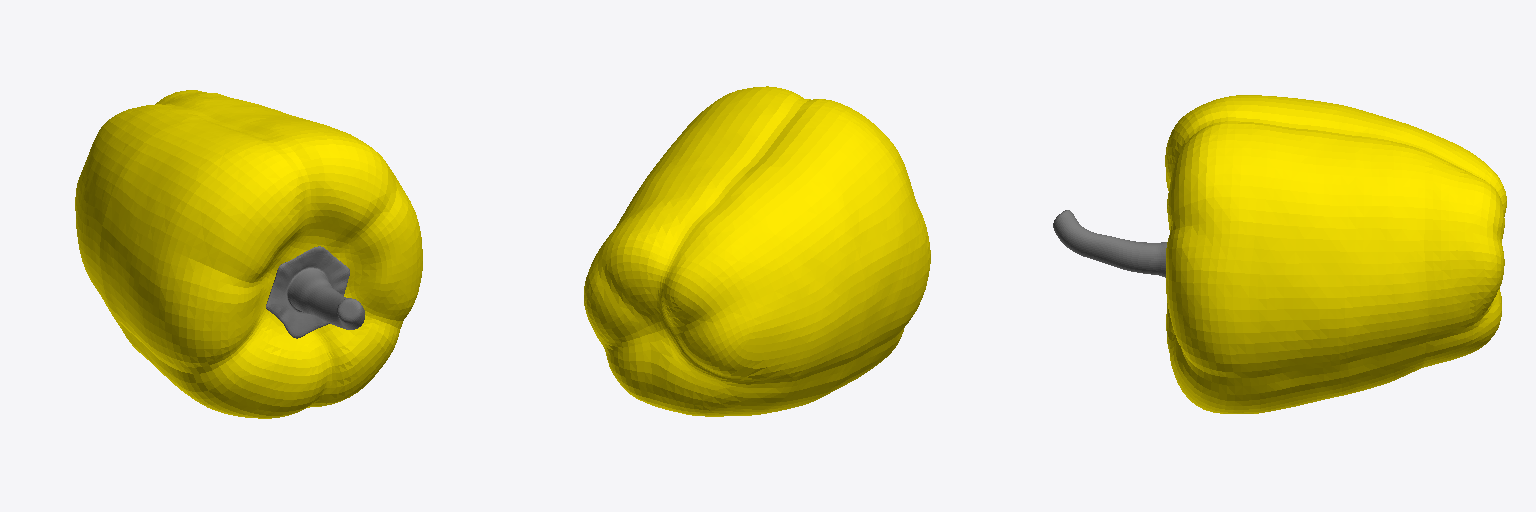
Rendered from bell_pepper.obj.
3 views of the same model, side by side, from view 1: azimuth 30°, elevation 25°; view 2: azimuth 150°, elevation 25°; view 3: azimuth 270°, elevation 25° (orthographic).
Parts seen in each view (by area): view 1: peper_part_08; view 2: peper_part_08; view 3: peper_part_08.
Part boxes in pixels (x1,y1,x2,y2): peper_part_08: (75, 90, 422, 418); peper_part_08: (584, 86, 930, 416); peper_part_08: (1053, 95, 1506, 413).
Bounding box in the file's own units: 2 × 2 × 3.